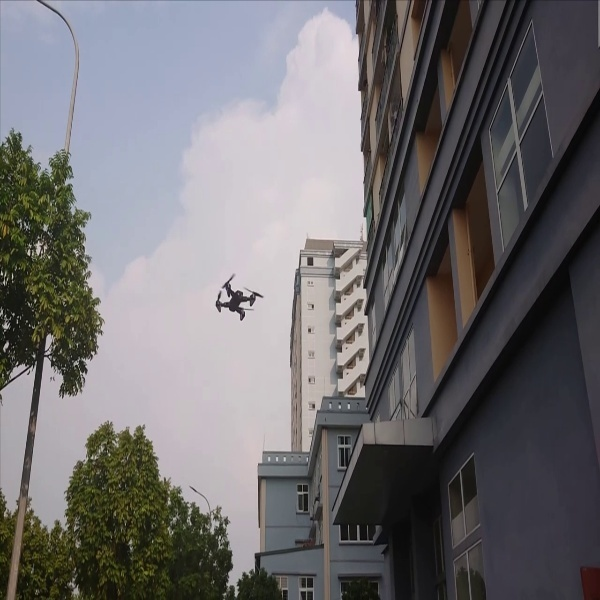drone: (203, 264, 267, 334)
